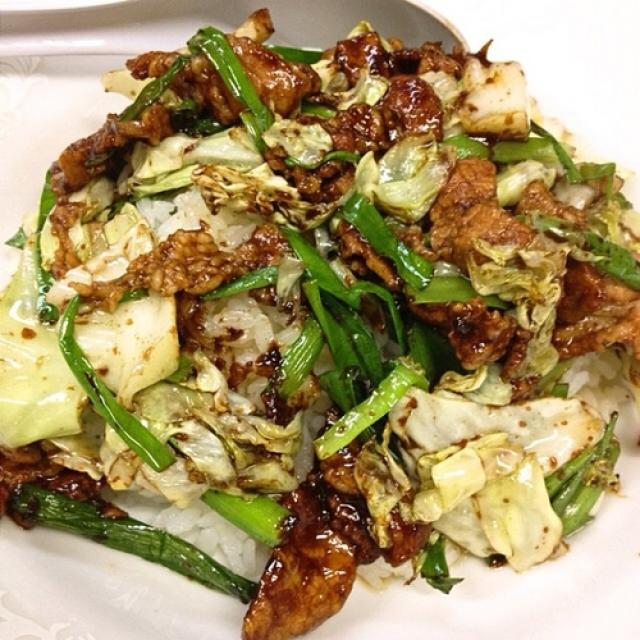蔬菜料理: (13, 33, 621, 616)
